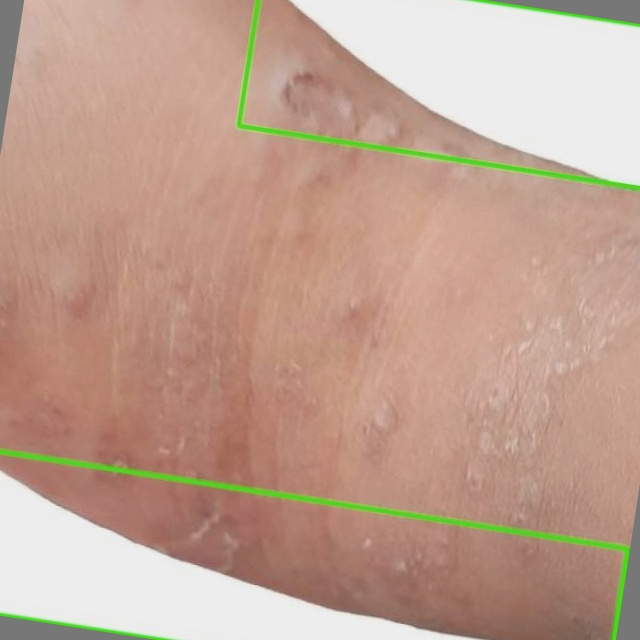Eczema: (0, 451, 629, 639), (238, 0, 639, 189)
